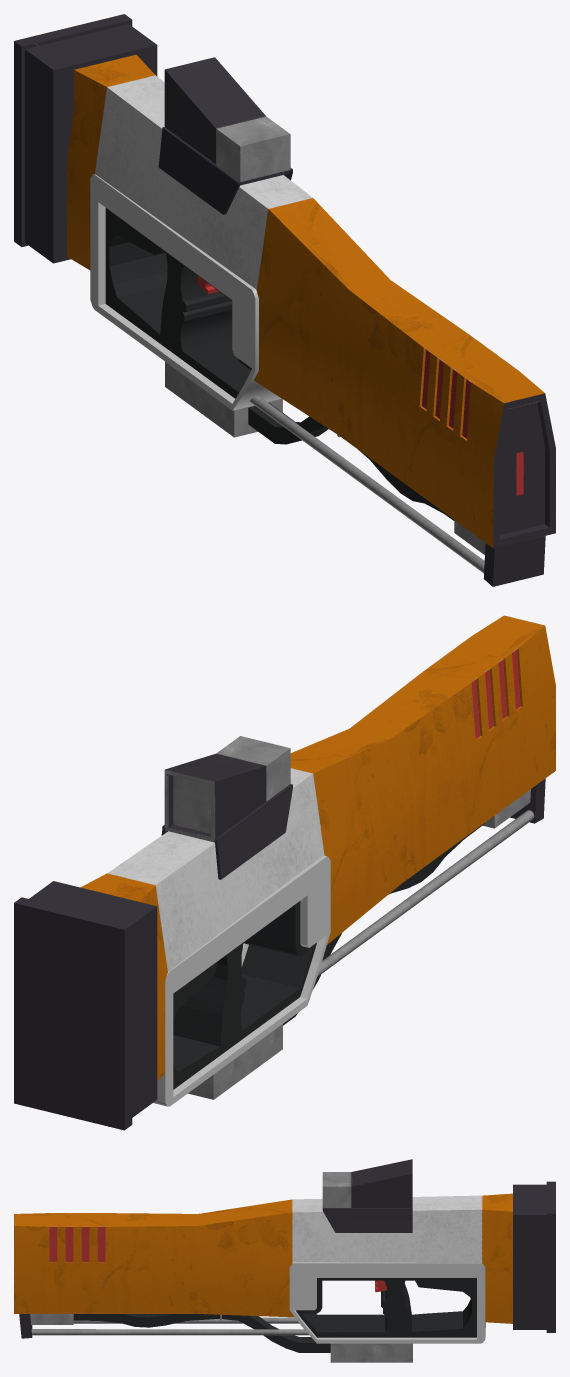
File: gun.fbx
3 renders of one model, top to bottom at view 1: azimuth 30°, elevation 25°; view 2: azimuth 150°, elevation 25°; view 3: azimuth 270°, elevation 25°, orthographic. The views are drawn at different scales.
Visible parts, largest first — view 1: gun; view 2: gun; view 3: gun.
Part boxes in pixels (left/top/right/bottom): gun: left=14, top=14, right=555, bottom=586; gun: left=14, top=615, right=555, bottom=1130; gun: left=14, top=1159, right=555, bottom=1362.
Size of the model in its own units: 0.1235 by 0.3395 by 0.8814.
